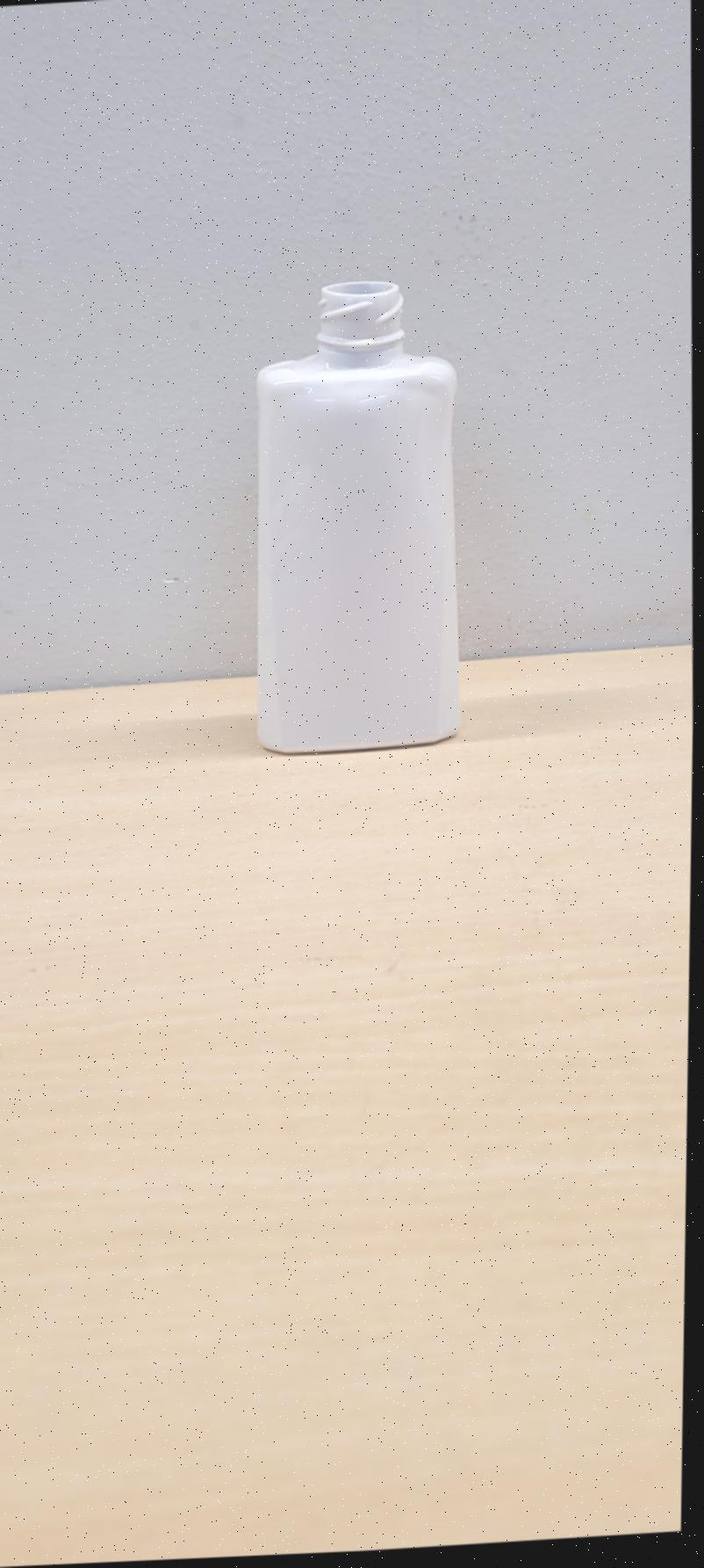bottle: (257, 280, 460, 752)
